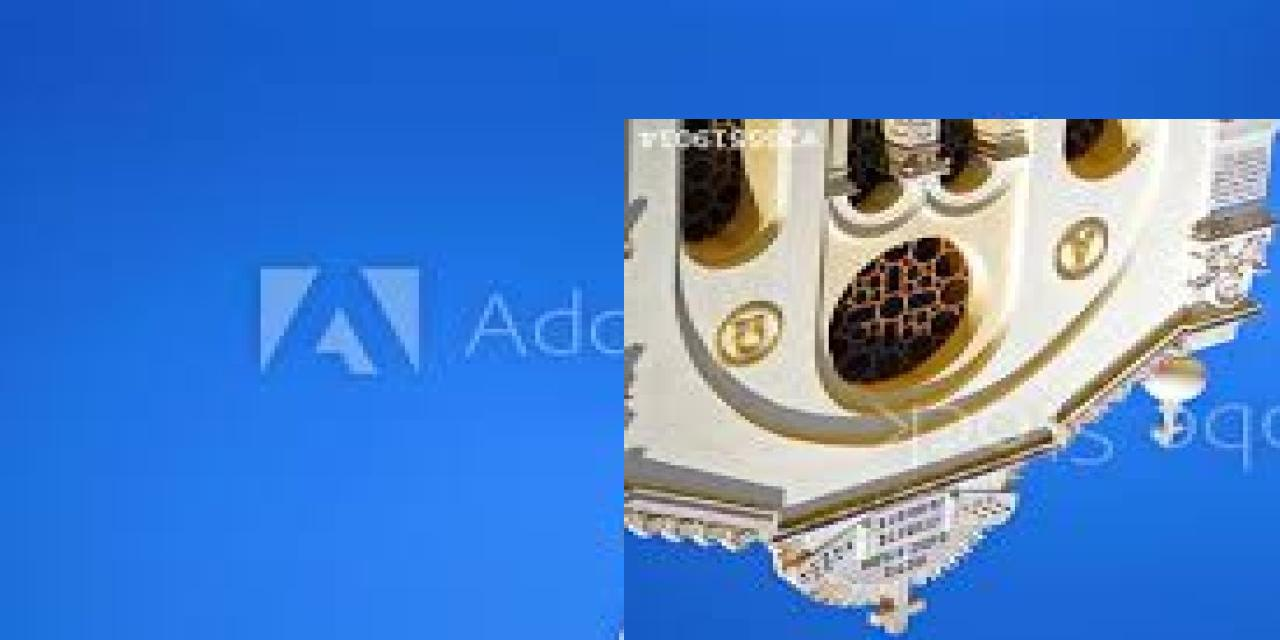Agios Minas: (625, 120, 1280, 640)
